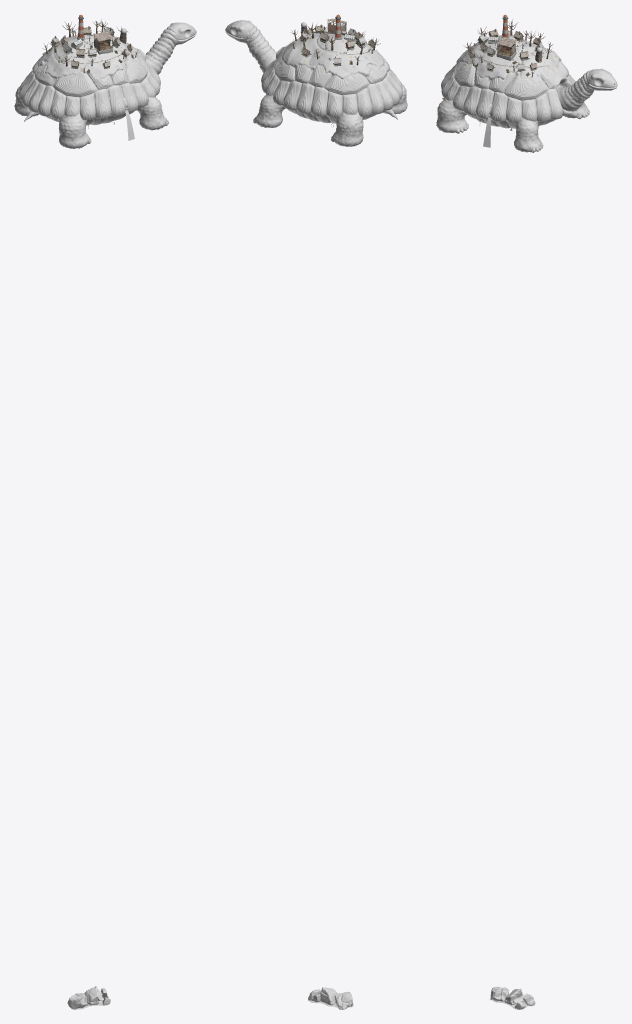
Rendered from lente.glb.
3 renders of one model, left to right at view 1: azimuth 30°, elevation 25°; view 2: azimuth 150°, elevation 25°; view 3: azimuth 330°, elevation 25°, orthographic.
Parts seen in each view (by area): view 1: carapace.001, peau.001, bois, rocher, pierre; view 2: carapace.001, peau.001, rocher, bois; view 3: carapace.001, peau.001, bois, rocher, pierre, tuile.
Boxes of the visible parts, bbox=[...] form: carapace.001: bbox=[19, 34, 160, 125]; peau.001: bbox=[14, 22, 196, 148]; bois: bbox=[42, 19, 137, 124]; rocher: bbox=[67, 986, 110, 1009]; pierre: bbox=[51, 26, 131, 68]; carapace.001: bbox=[261, 33, 402, 123]; peau.001: bbox=[225, 20, 407, 146]; rocher: bbox=[308, 987, 353, 1009]; bois: bbox=[290, 21, 401, 83]; carapace.001: bbox=[441, 35, 577, 128]; peau.001: bbox=[436, 68, 617, 152]; bois: bbox=[442, 19, 552, 125]; rocher: bbox=[489, 986, 535, 1009]; pierre: bbox=[470, 29, 544, 71]; tuile: bbox=[468, 30, 540, 69].
Size of the model in its own units: 8.2 by 45.11 by 5.3.
